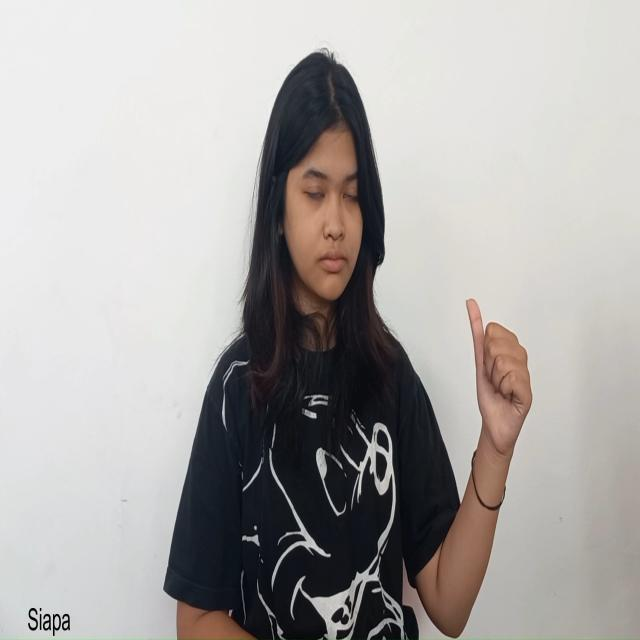Siapa -BISINDO-: (464, 294, 534, 478)
